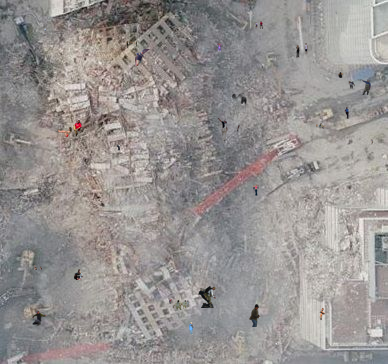Human: (217, 118, 240, 141), (338, 79, 371, 95), (135, 49, 165, 66), (198, 286, 216, 308), (249, 304, 261, 327), (32, 310, 47, 326), (173, 300, 190, 311), (232, 92, 247, 104), (296, 43, 308, 58), (73, 120, 82, 136), (58, 127, 72, 137), (74, 269, 83, 280), (342, 107, 349, 119), (252, 184, 259, 196), (319, 308, 326, 320), (253, 21, 263, 29), (126, 41, 137, 48), (189, 322, 194, 335), (316, 123, 326, 129), (217, 43, 222, 52), (33, 265, 42, 270), (117, 145, 123, 151), (338, 72, 343, 78), (169, 299, 172, 304), (371, 139, 373, 145), (275, 342, 277, 348), (335, 10, 337, 15), (44, 28, 47, 31)
